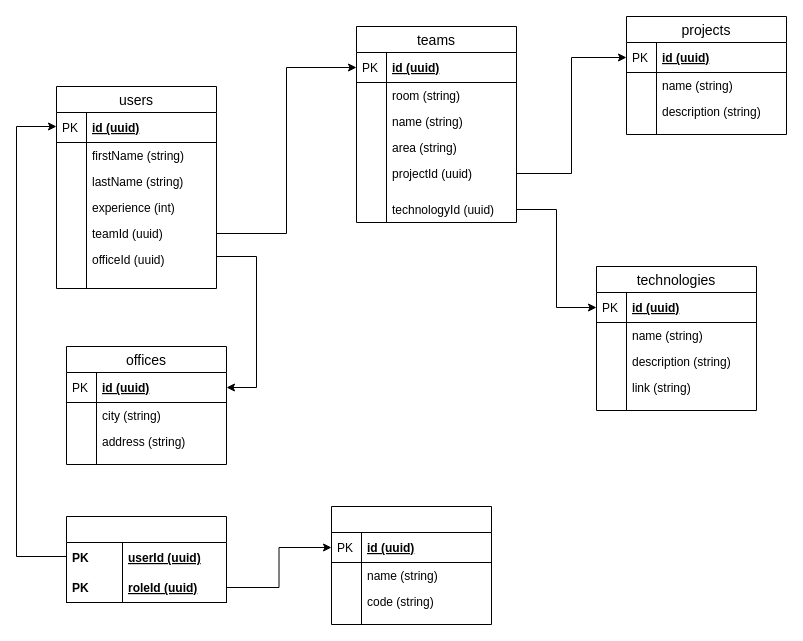
Some shapes in this 803 by 641 pixel diagram are drawn without their labels. Here are the shapes that lost their labels. From the top down, the box of each, then its label:
(66, 516, 226, 602): User2Role
(330, 506, 492, 624): roles
